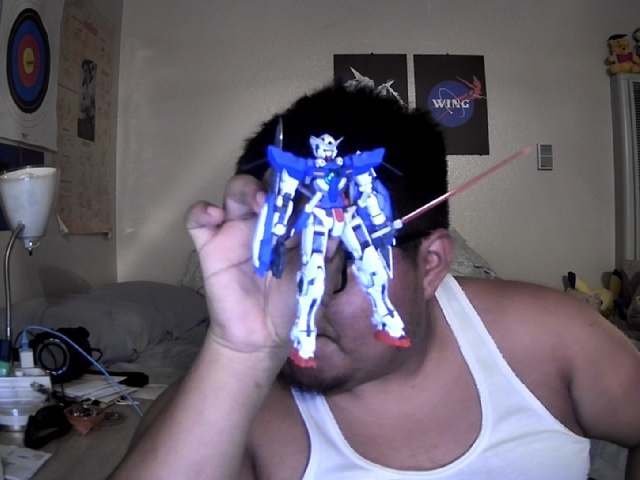Exia: (251, 120, 532, 369)
